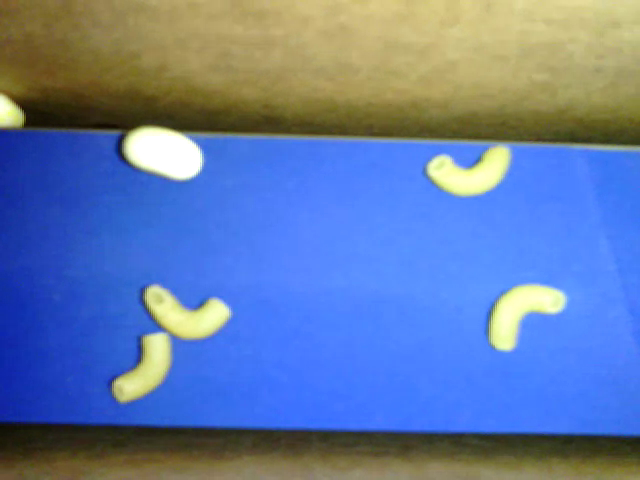elbow: (143, 282, 234, 341), (489, 282, 565, 352), (426, 143, 510, 197), (110, 332, 171, 404)
